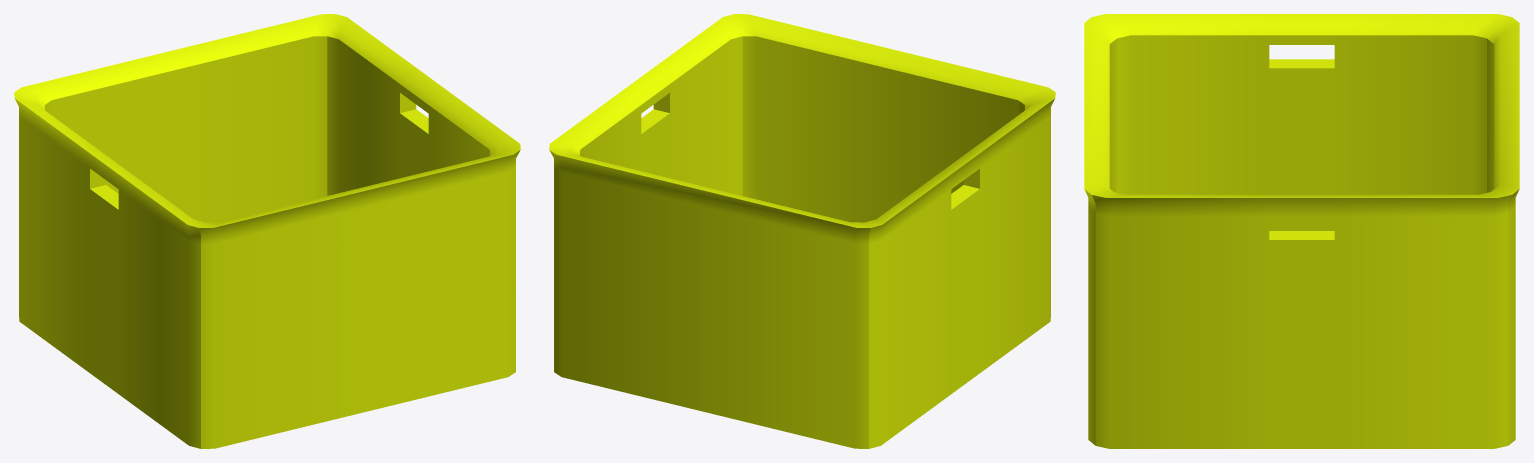
The model's file is Basket2.FBX.
3 renders of one model, left to right at view 1: azimuth 30°, elevation 25°; view 2: azimuth 150°, elevation 25°; view 3: azimuth 270°, elevation 25°, orthographic. The views are drawn at different scales.
Parts seen in each view (by area): view 1: Box024; view 2: Box024; view 3: Box024.
Part boxes in pixels (x1=…): Box024: x1=14, y1=14, x2=520, y2=448; Box024: x1=549, y1=14, x2=1055, y2=448; Box024: x1=1084, y1=14, x2=1519, y2=448.
Bounding box in the file's own units: 0.9136 × 0.5853 × 0.9136.
